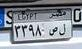3: (21, 24, 28, 38), (14, 24, 20, 39)
8: (35, 23, 42, 38)
9: (29, 23, 34, 37)
laam: (59, 23, 66, 37)
saad: (49, 25, 58, 36)
